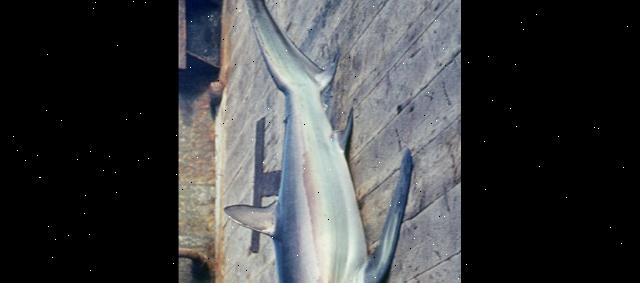Sirip Anal: (274, 97, 332, 126)
Sirip Dada: (356, 241, 455, 283)
Sirip Ekor: (231, 0, 370, 97)
Sirip Perut: (332, 100, 366, 158)
Sirip Punggung: (214, 194, 288, 243)
